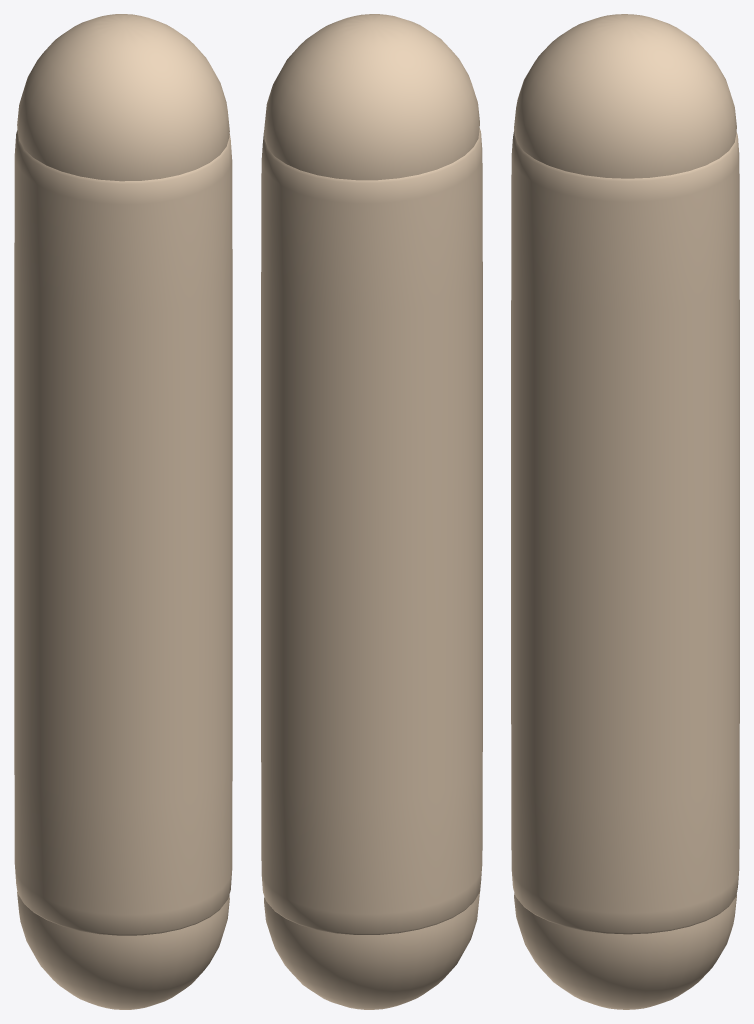
The model's file is PROP_Log_v2.glb.
3 renders of one model, left to right at view 1: azimuth 30°, elevation 25°; view 2: azimuth 150°, elevation 25°; view 3: azimuth 270°, elevation 25°, orthographic.
Visible parts, largest first — view 1: PROP_Log_v2; view 2: PROP_Log_v2; view 3: PROP_Log_v2.
Boxes of the visible parts, left/top/right/bottom form: PROP_Log_v2: left=14, top=14, right=232, bottom=1009; PROP_Log_v2: left=261, top=14, right=482, bottom=1009; PROP_Log_v2: left=511, top=14, right=739, bottom=1009.
Size of the model in its own units: 0.4633 by 2.3 by 0.487.
